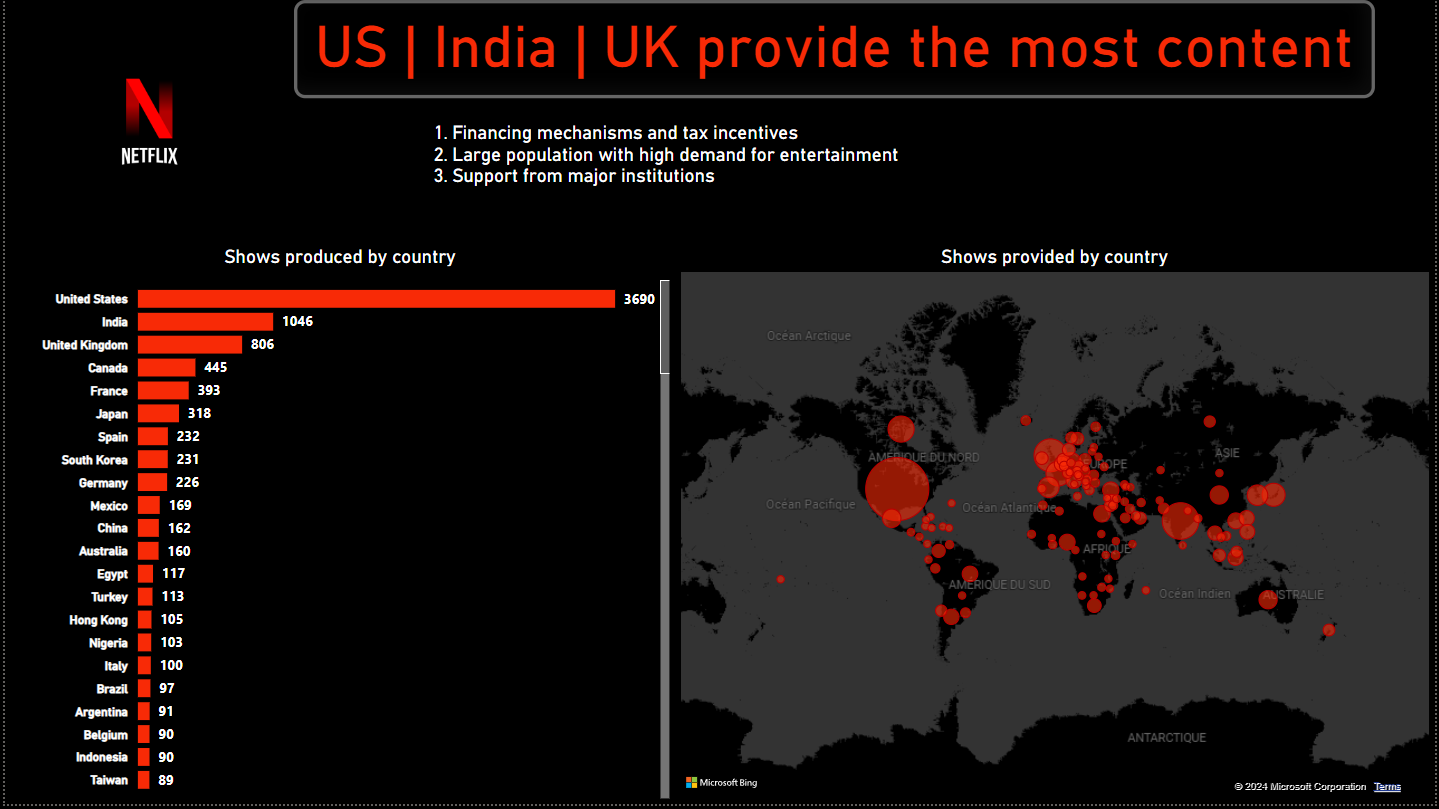

The dashboard page shown, as its layout file describes it:
{"tool":"powerbi","page":{"name":"Countries/Most content","canvas":[1280,720],"ordinal":5},"visuals":[{"type":"textbox","box":[258.8,0,968.1,87.8],"z":0},{"type":"image","box":[0,0,258.8,219.4],"z":1000},{"type":"clusteredBarChart","title":"Shows produced by country","fields":{"Category":["netflix.country"],"Y":["Count(netflix.show_id)"]},"box":[0,219.4,600,500.6],"z":2000},{"type":"map","title":"Shows provided by country","fields":{"Category":["netflix.country"],"Size":["Count(netflix.show_id)"]},"box":[600,219.4,679.7,500.6],"z":3000},{"type":"textbox","box":[378.8,103.9,538.2,74.3],"z":4000}]}

Visuals, with their boxes in screenshot pixels (x1, y1, x2, y2), scaled from the page's 1280x720 canvas onto the 1439x809 screenshot:
textbox: pyautogui.locateOnScreen(291, 0, 1379, 99)
image: pyautogui.locateOnScreen(0, 0, 291, 247)
"Shows produced by country" clusteredBarChart: pyautogui.locateOnScreen(0, 247, 675, 808)
"Shows provided by country" map: pyautogui.locateOnScreen(675, 247, 1438, 808)
textbox: pyautogui.locateOnScreen(426, 117, 1031, 200)
